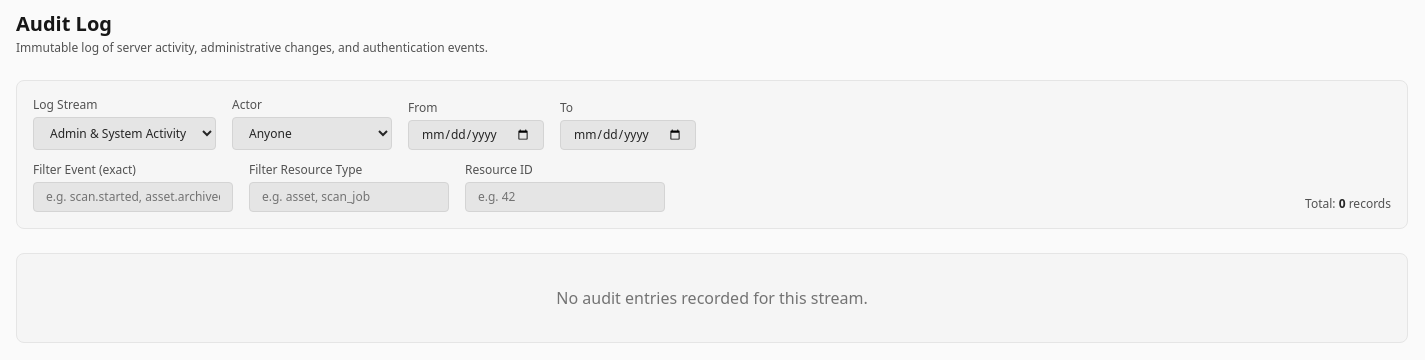
Test case: AuditLogPage: filters and loading › flags a reversed date range instead of querying it
This screenshot has width=1425, height=360.
Check: the text "No audit entries recorded for this stream." is shown, box x1=16 y1=253 x2=1408 y2=343
Type "2026-03-05" into the date field labelled "From" at (476, 135), box x1=408 y1=120 x2=544 y2=150
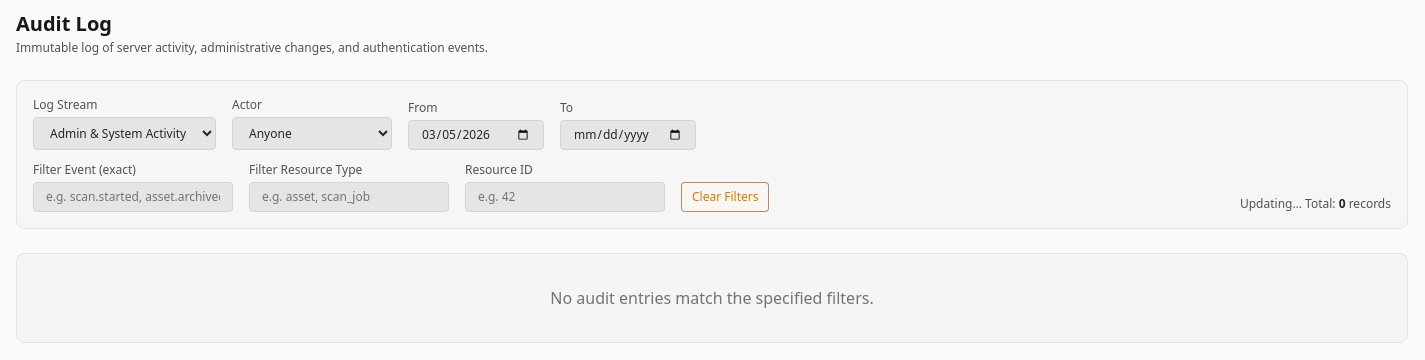
Type "2026-03-01" into the date field labelled "To" at (628, 135), box x1=560 y1=120 x2=696 y2=150
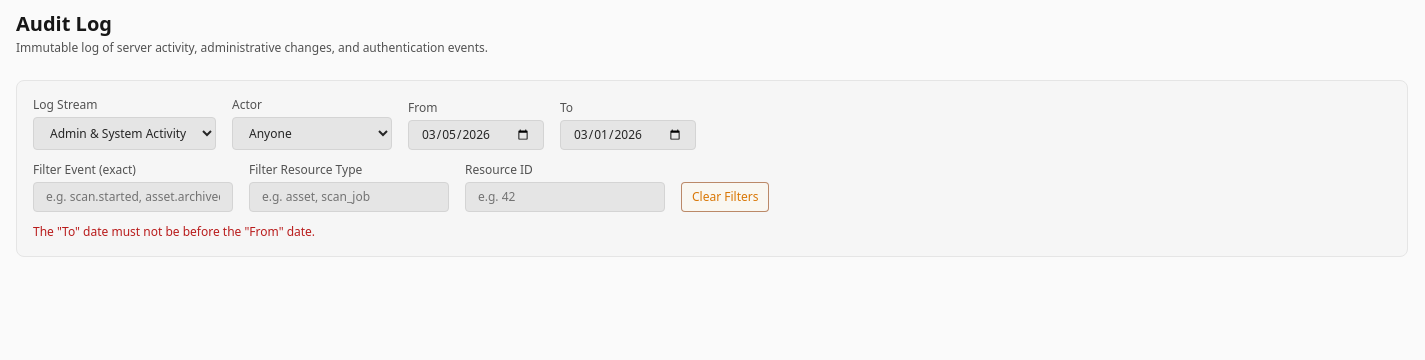
Check: the message shows "must not be before", box x1=33 y1=223 x2=315 y2=240
